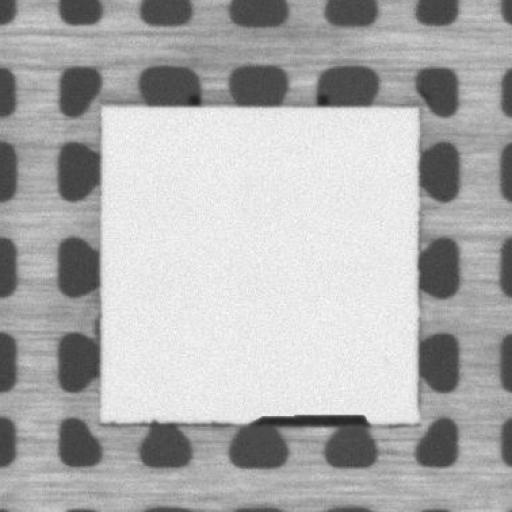DIE_BROKEN: (244, 410, 371, 428)
